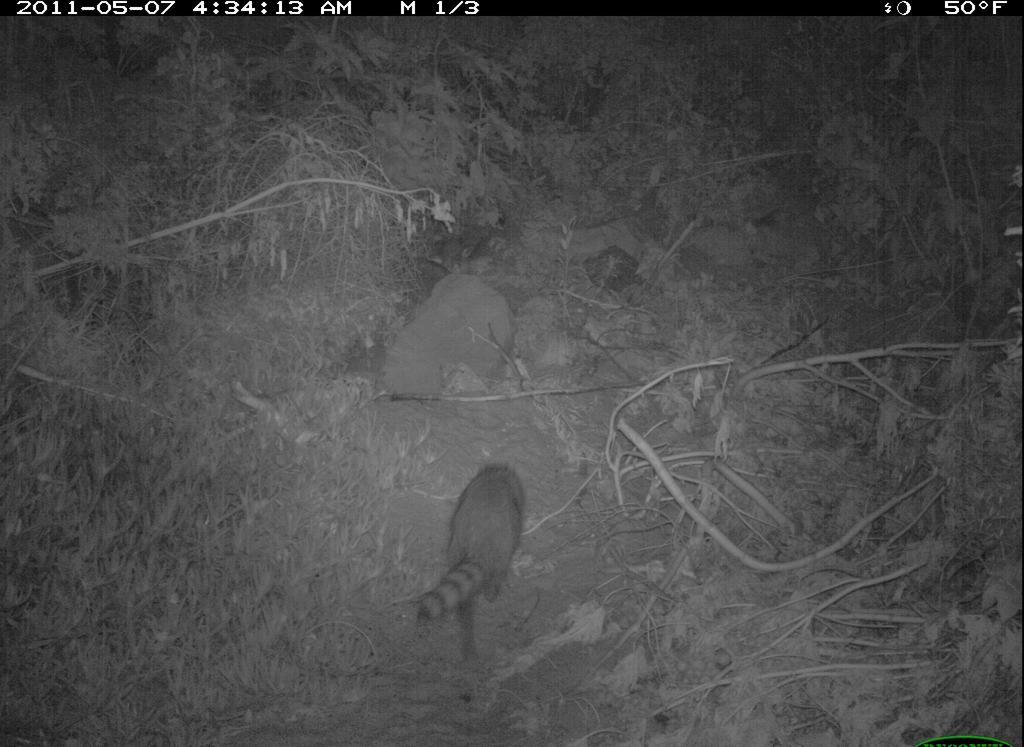raccoon: (404, 452, 553, 644)
